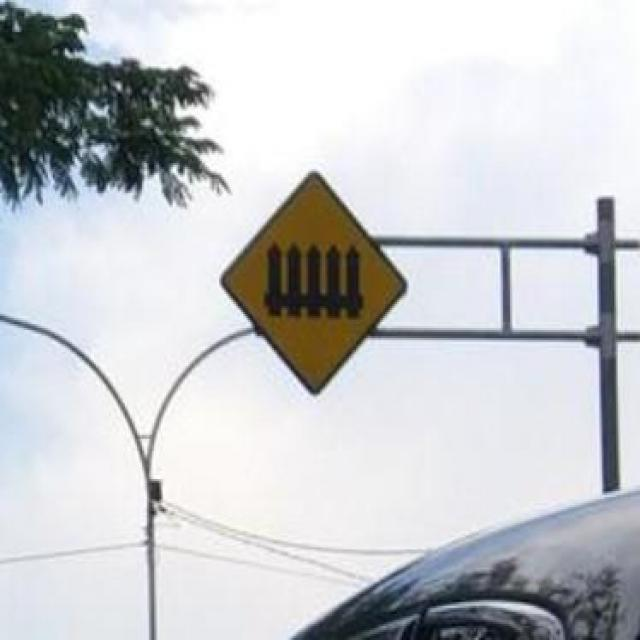traffic sign: (229, 173, 404, 384)
